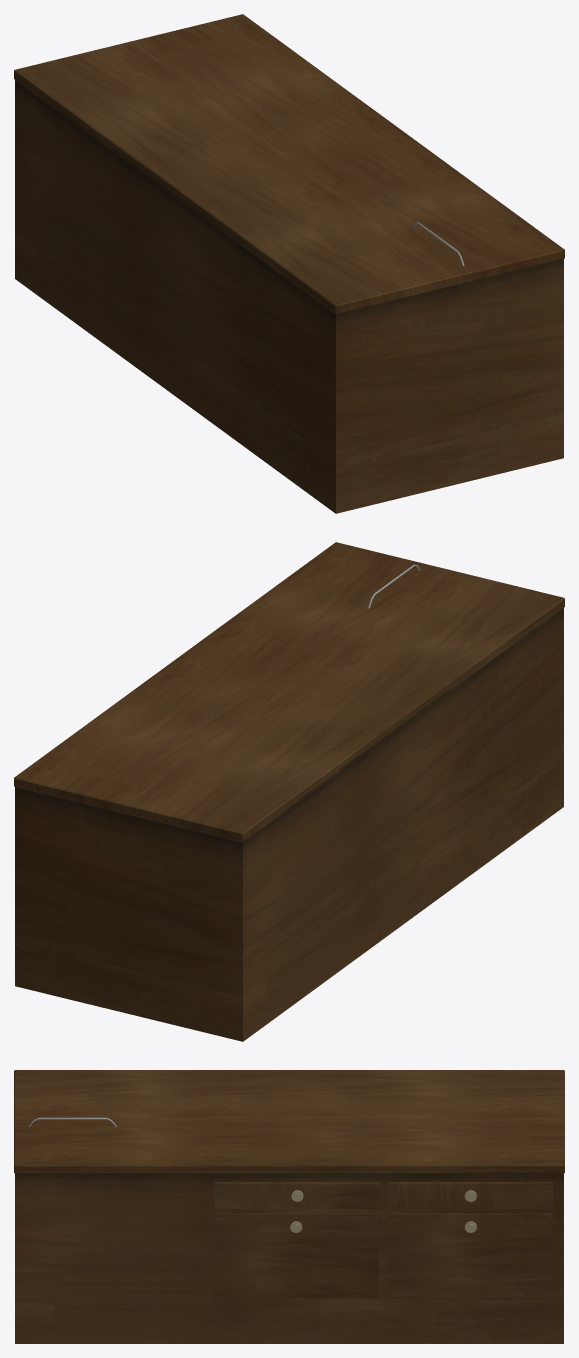
The model's file is Sidetable.FBX.
3 renders of one model, top to bottom at view 1: azimuth 30°, elevation 25°; view 2: azimuth 150°, elevation 25°; view 3: azimuth 270°, elevation 25°, orthographic. The views are drawn at different scales.
Parts seen in each view (by area): view 1: Cylinder019; view 2: Cylinder019; view 3: Cylinder019.
Boxes of the visible parts, x1,y1,x2,y2 form: Cylinder019: (14, 14, 564, 513); Cylinder019: (14, 542, 564, 1041); Cylinder019: (14, 1070, 564, 1343).
Bounding box in the file's own units: 319 × 287 × 764.
Materials: 2 (1 with a texture image).
